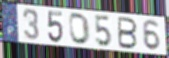3: (22, 7, 41, 42)
5: (94, 13, 113, 48), (47, 10, 64, 44)
6: (142, 19, 162, 52)
B: (117, 16, 139, 50)
O: (68, 12, 92, 46)
